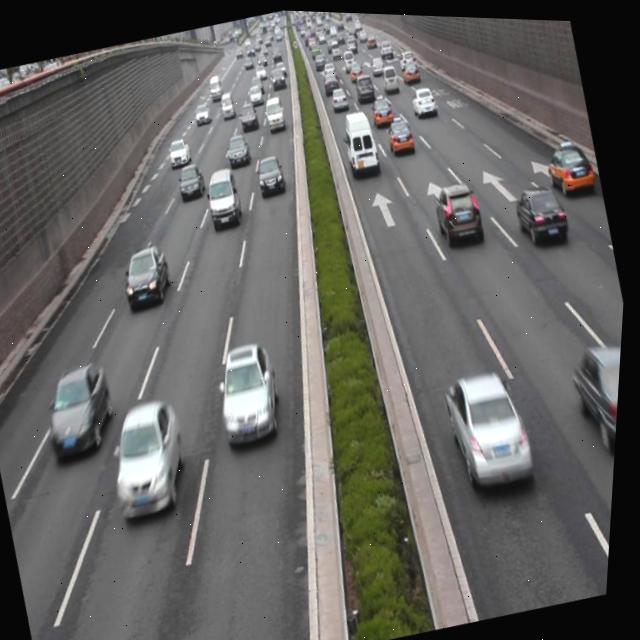car: (439, 358, 549, 501), (105, 391, 203, 517), (40, 360, 127, 459), (211, 340, 291, 446), (566, 327, 626, 454), (510, 175, 573, 247), (119, 243, 181, 312), (431, 177, 488, 246), (541, 134, 597, 191), (203, 167, 248, 227), (253, 151, 290, 197), (384, 110, 418, 155), (177, 160, 211, 202), (407, 80, 439, 115), (367, 89, 395, 126), (225, 130, 252, 168)
truck: (337, 105, 383, 173)
